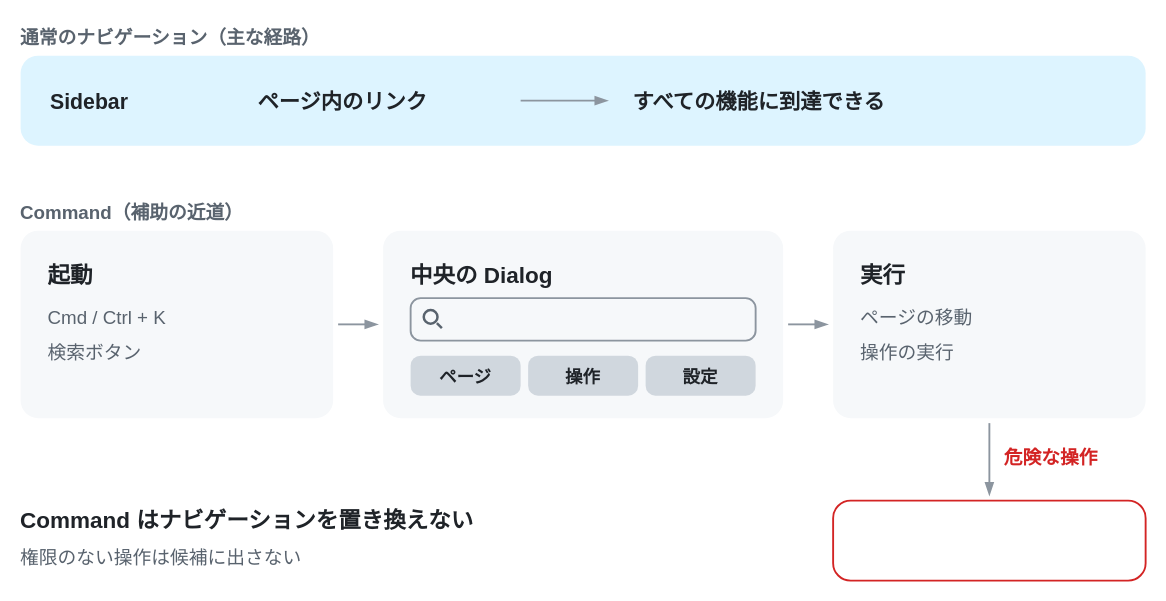
Some shapes in this 1166 by 601 pixel diagram are drawn without their labels. Here are the shapes that lost their labels. From the top down, the box of each, then its label:
(409, 297, 756, 341): 検索欄
(832, 499, 1146, 581): Alert Dialog で確認
